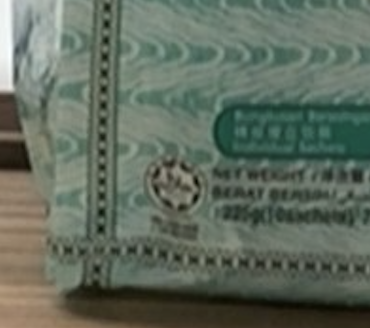halal: (154, 165, 197, 206)
